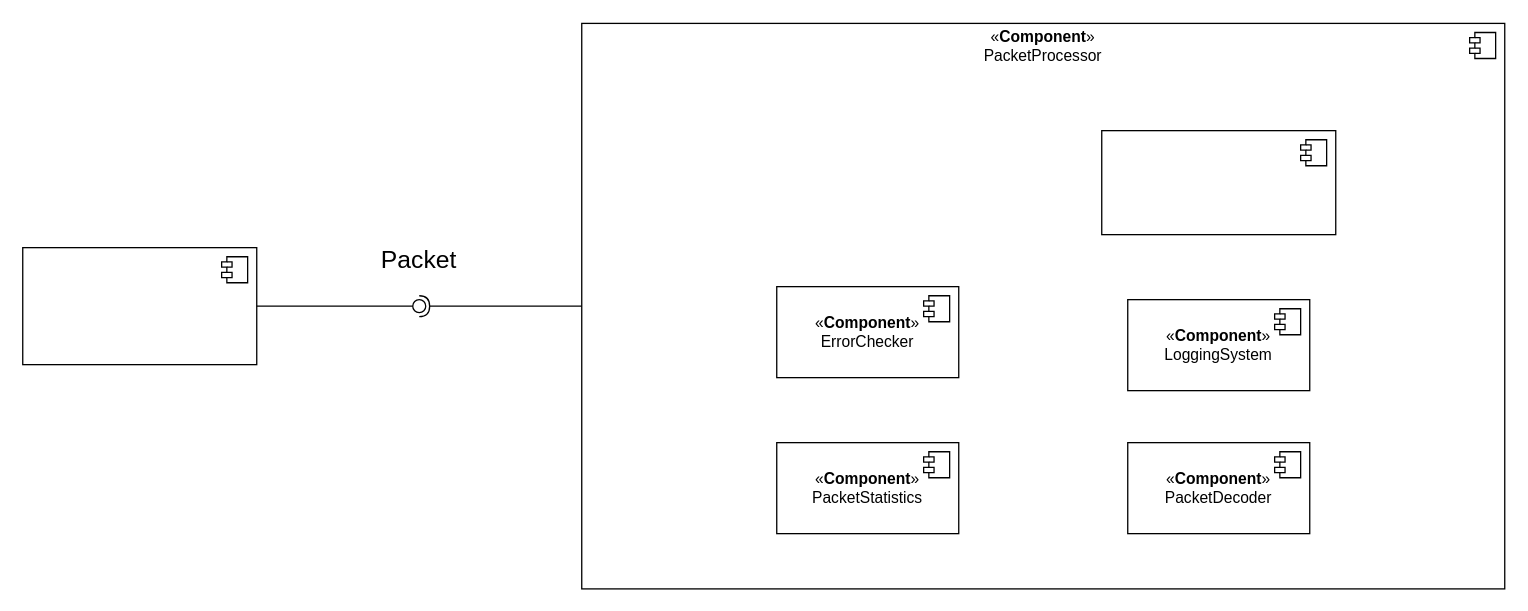
This 1528x611 diagram has some shape labels left out. Each missing label, with the centre of its shape:
"«Component» IntrusionDetectionSystem" goes at (1218,182).
"«Component» PacketSniffer" goes at (139,305).
